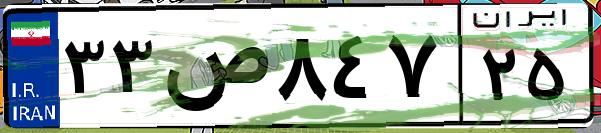2: (475, 38, 525, 113)
3: (57, 26, 110, 100), (110, 28, 158, 98)
4: (330, 28, 385, 110)
5: (525, 38, 570, 115)
7: (385, 28, 445, 110)
8: (270, 28, 330, 110)
ص: (158, 20, 270, 120)
